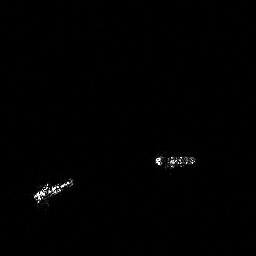ship: (34, 181, 75, 202), (155, 155, 195, 169)
